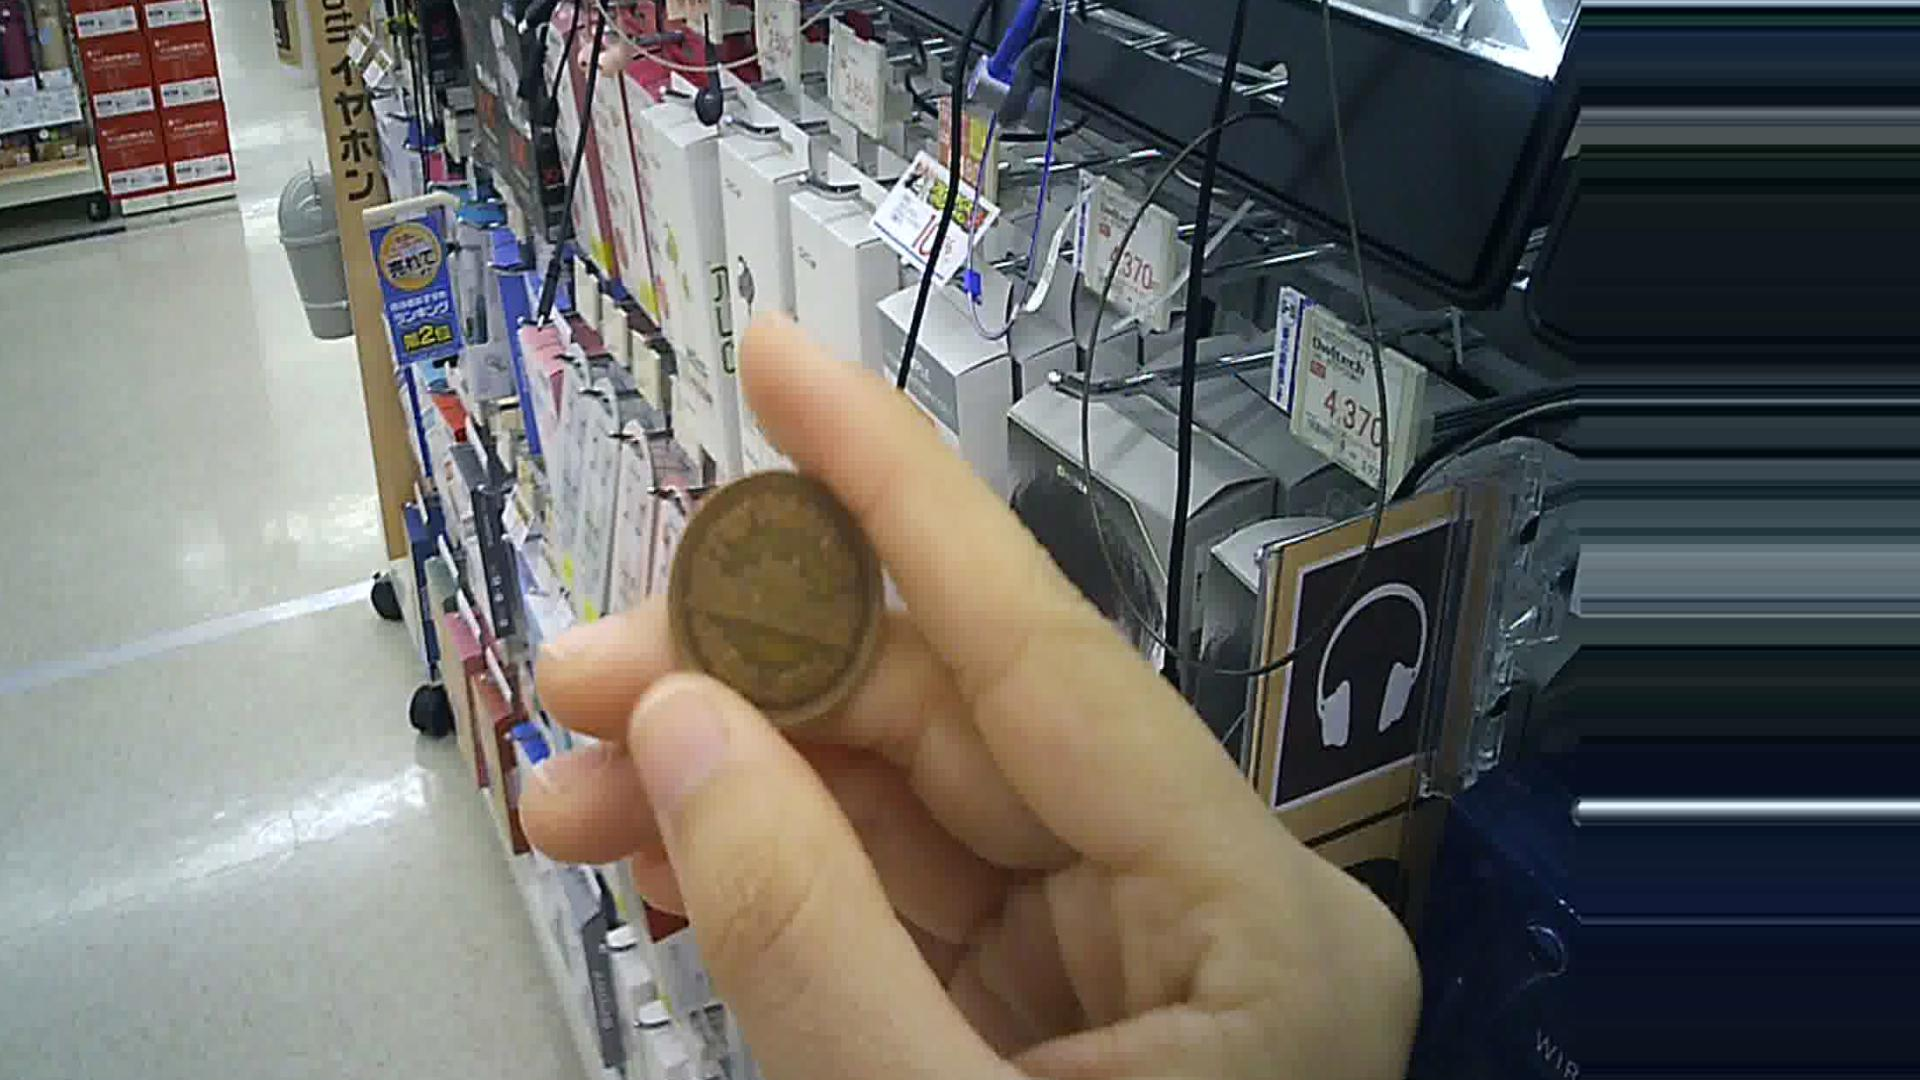10 Yen: (659, 464, 897, 737)
